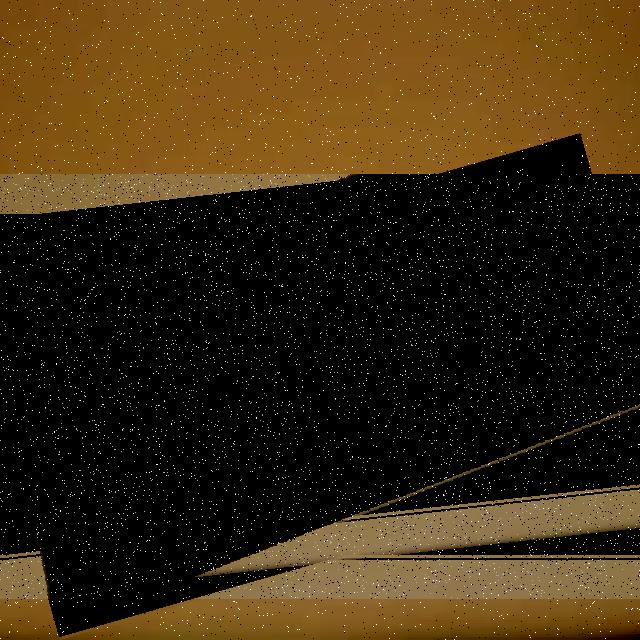dua puluh ribu rupiah: (0, 174, 640, 599)
